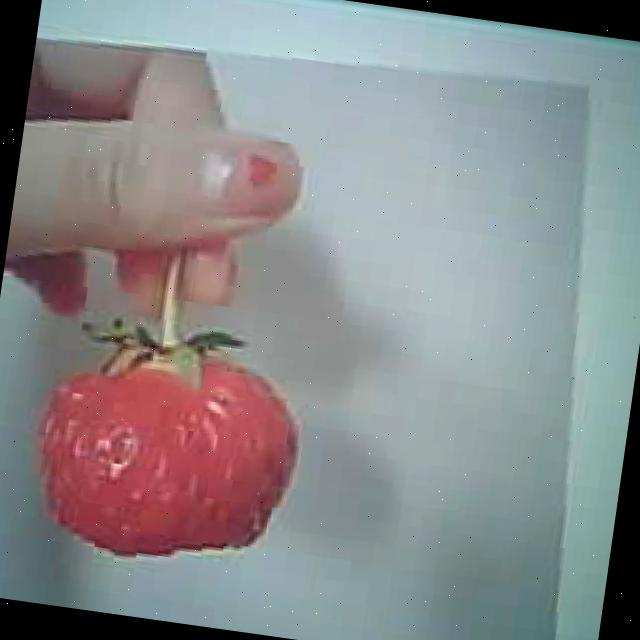strawberry: (33, 316, 312, 566)
